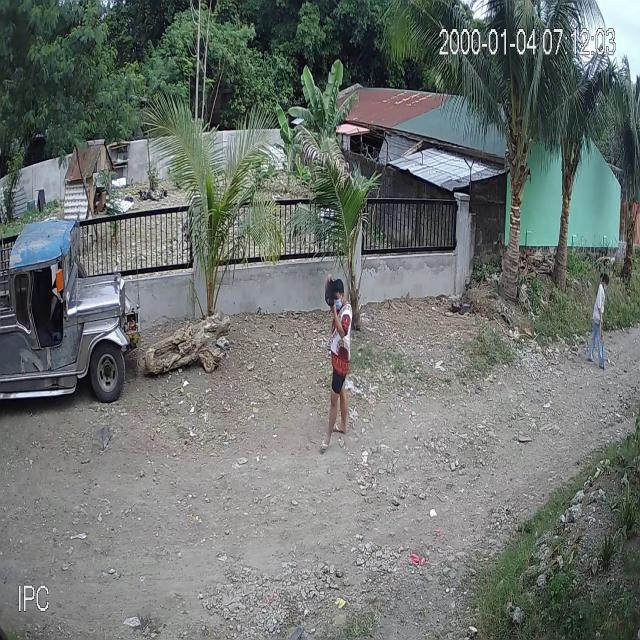walking: (318, 269, 354, 454), (585, 266, 609, 372)
